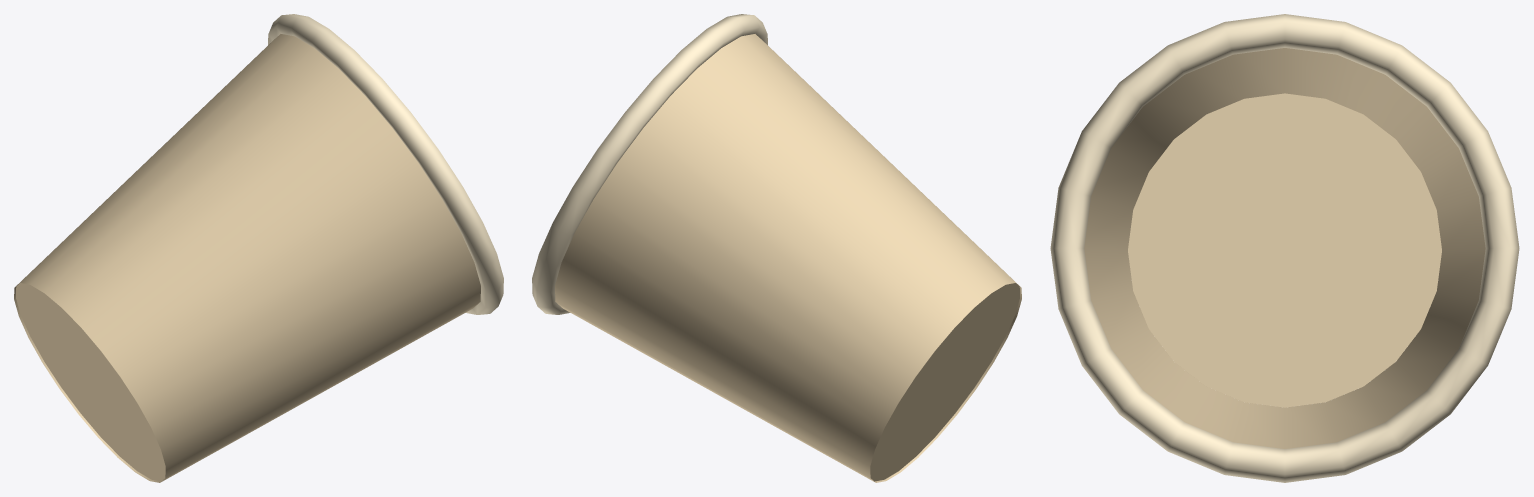
Rendered from cup.glb.
3 views of the same model, side by side, from view 1: azimuth 30°, elevation 25°; view 2: azimuth 150°, elevation 25°; view 3: azimuth 270°, elevation 25° (orthographic). The views are drawn at different scales.
Parts seen in each view (by area): view 1: PaperCup, CupBase, CupRim; view 2: PaperCup, CupBase, CupRim; view 3: CupBase, PaperCup, CupRim.
Part boxes in pixels (box(x1,y1,x2,y2)): PaperCup: box(14, 34, 480, 482); CupBase: box(16, 283, 165, 481); CupRim: box(268, 14, 503, 314); PaperCup: box(555, 34, 1021, 482); CupBase: box(870, 283, 1019, 481); CupRim: box(532, 14, 767, 314); CupBase: box(1128, 93, 1441, 407); PaperCup: box(1084, 48, 1485, 448); CupRim: box(1050, 14, 1519, 482).
Bounding box in the file's own units: 0.508 × 0.4637 × 0.388.
